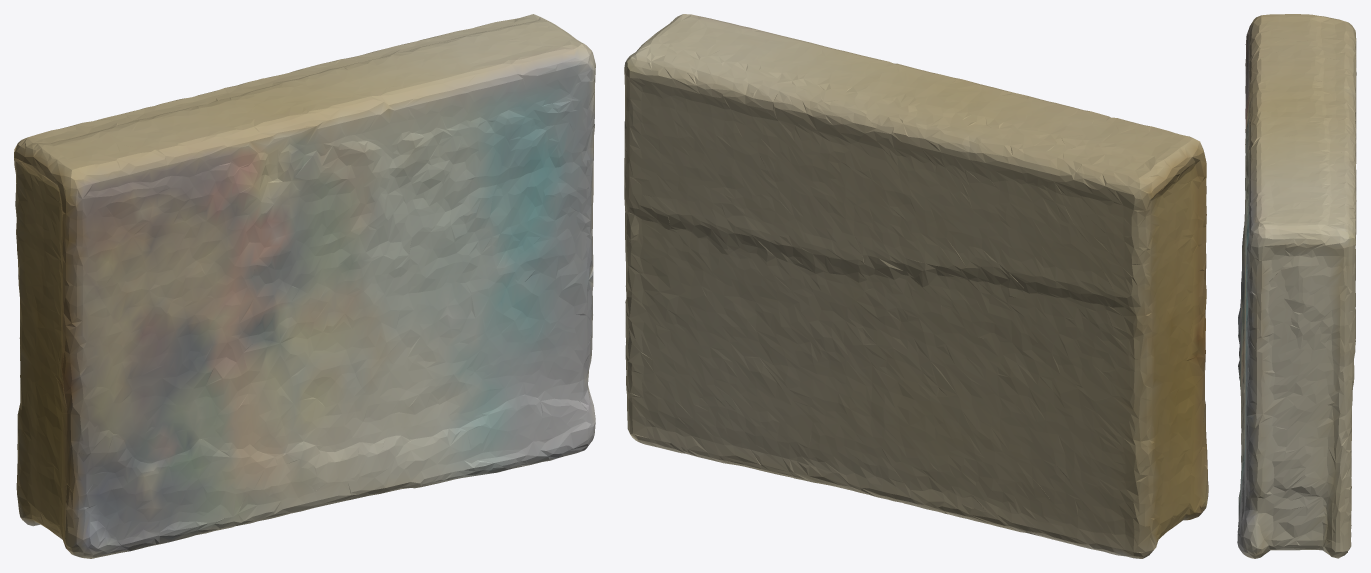
File: book_1.glb
3 views of the same model, side by side, from view 1: azimuth 30°, elevation 25°; view 2: azimuth 150°, elevation 25°; view 3: azimuth 270°, elevation 25° (orthographic). The views are drawn at different scales.
Parts seen in each view (by area): view 1: geometry_0; view 2: geometry_0; view 3: geometry_0.
Part boxes in pixels (bbox=[...]): geometry_0: bbox=[14, 14, 595, 558]; geometry_0: bbox=[624, 14, 1208, 558]; geometry_0: bbox=[1237, 14, 1356, 558].
Bounding box in the file's own units: 1 × 0.719 × 0.2293.
